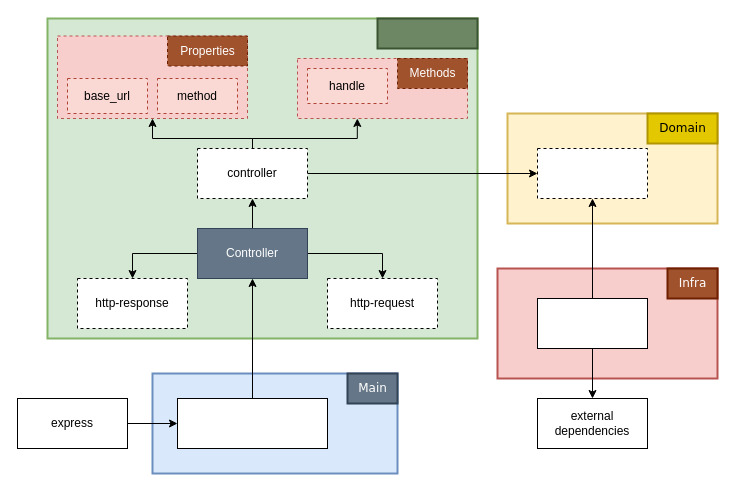
Image size: 736x491. Some labels were removed from this diagram. The shapes that lost their labels are listed below. From the top down, each one's centre as x and y in pixels, then its label:
point 427,33: Presentation
point 592,173: Entities
point 592,323: Adapters
point 252,423: express-adapters
